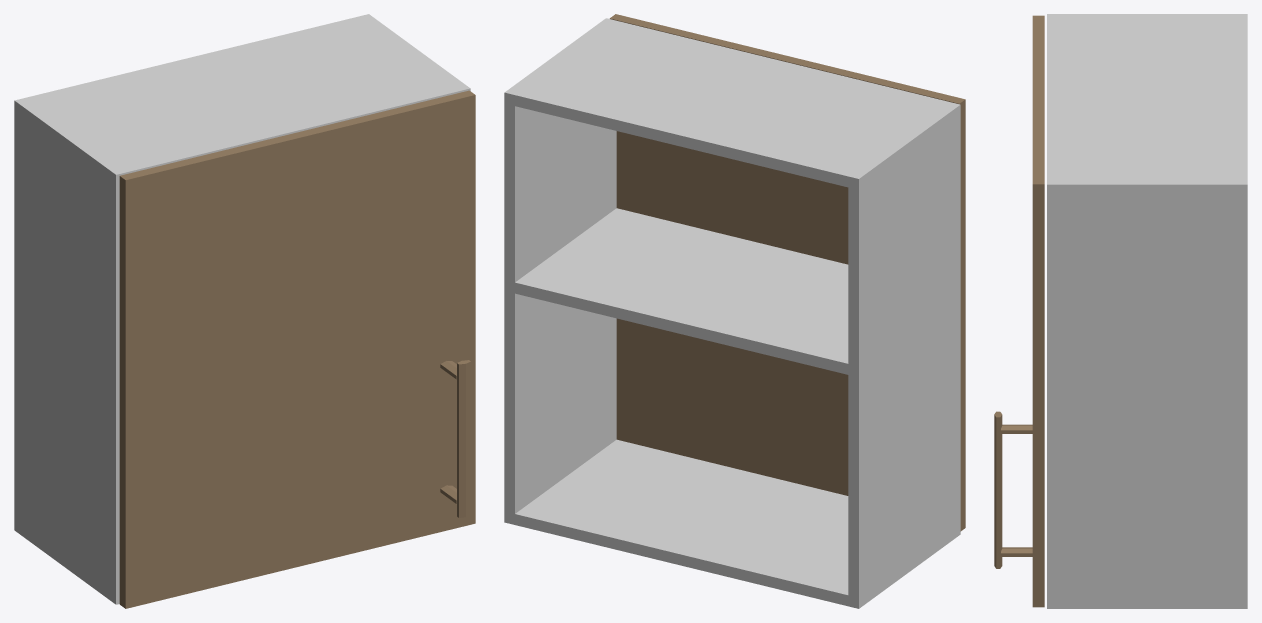
The picture shows the model from 3 angles, left to right: view 1: azimuth 30°, elevation 25°; view 2: azimuth 150°, elevation 25°; view 3: azimuth 270°, elevation 25°; orthographic projection.
Visible parts, largest first — view 1: user-library-upper; view 2: user-library-upper; view 3: user-library-upper.
Boxes of the visible parts, x1,y1,x2,y2 form: user-library-upper: (14,14,475,608); user-library-upper: (504,14,965,608); user-library-upper: (994,14,1247,608).
Bounding box in the file's own units: 0.8629 × 1 × 0.5414.
